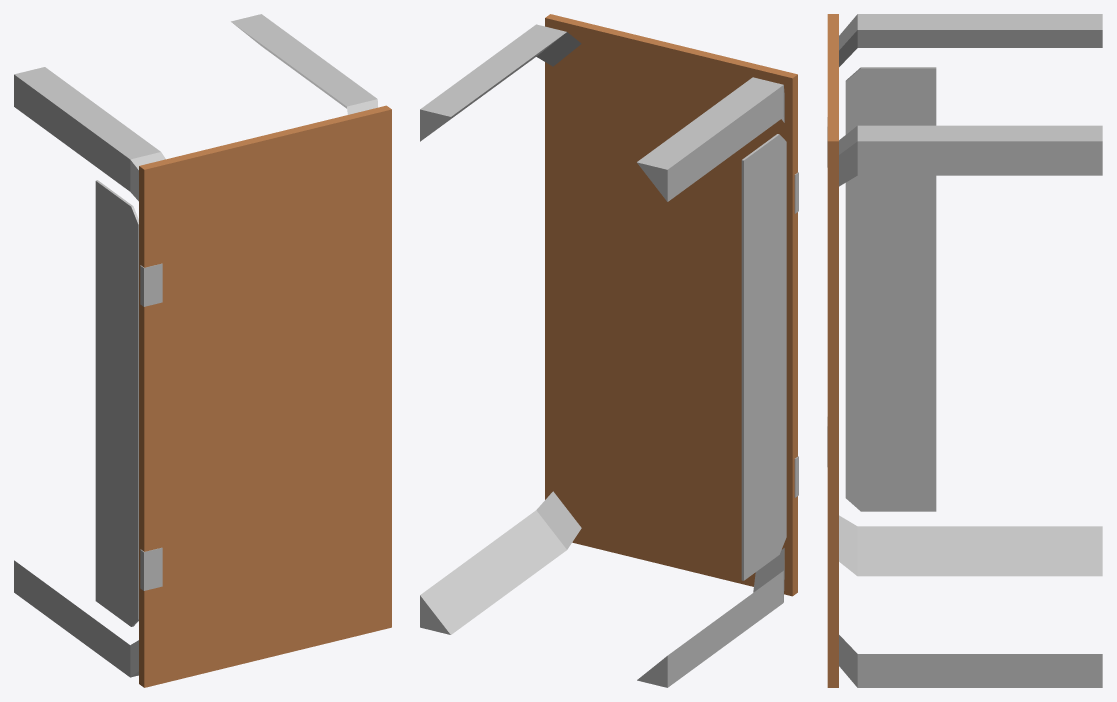
The model's file is cooking_table.obj.
3 renders of one model, left to right at view 1: azimuth 30°, elevation 25°; view 2: azimuth 150°, elevation 25°; view 3: azimuth 270°, elevation 25°, orthographic. The views are drawn at different scales.
Visible parts, largest first — view 1: cooking_table; view 2: cooking_table; view 3: cooking_table.
Part boxes in pixels (bbox=[...]): cooking_table: bbox=[14, 14, 391, 687]; cooking_table: bbox=[420, 14, 798, 687]; cooking_table: bbox=[827, 14, 1102, 687].
Size of the model in its own units: 0.8023 by 1.6 by 0.7313.
